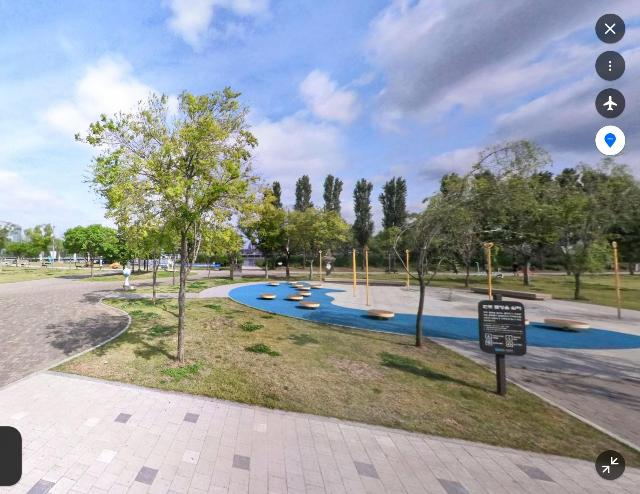other: (74, 86, 263, 365), (382, 136, 557, 347), (544, 161, 609, 300), (499, 172, 559, 287), (592, 158, 640, 300), (237, 190, 302, 279), (378, 174, 410, 275), (320, 172, 345, 275), (291, 173, 316, 274), (350, 176, 376, 273), (266, 179, 287, 276), (28, 223, 58, 270), (0, 220, 29, 267)
